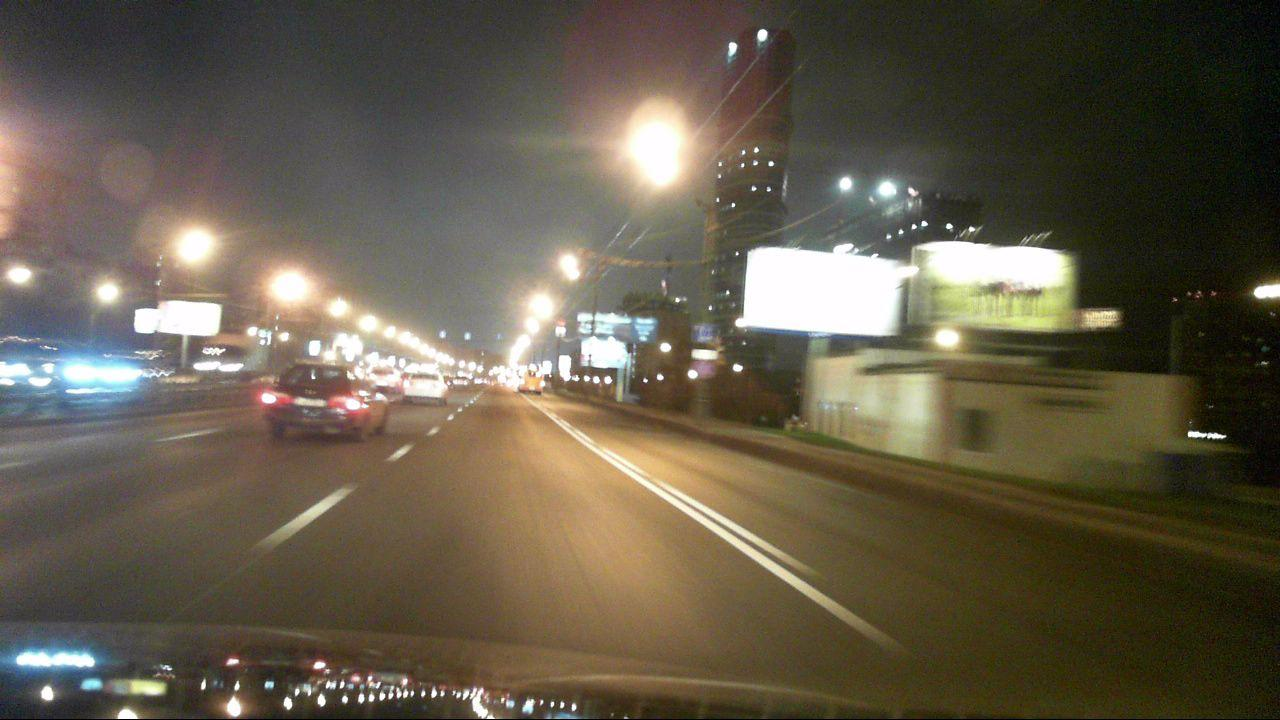3_27: (697, 362, 715, 379)
